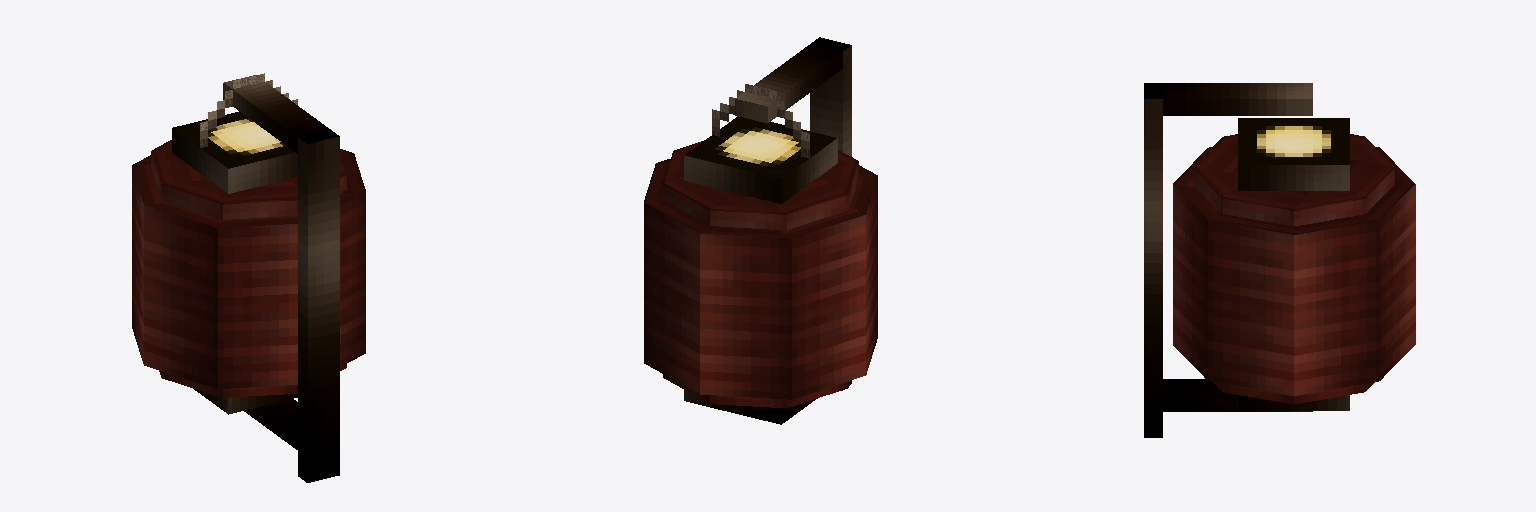
3 renders of one model, left to right at view 1: azimuth 30°, elevation 25°; view 2: azimuth 150°, elevation 25°; view 3: azimuth 270°, elevation 25°, orthographic.
Visible parts, largest first — view 1: cube; view 2: cube; view 3: cube.
Part boxes in pixels (bbox=[...]): cube: bbox=[132, 73, 365, 482]; cube: bbox=[644, 37, 877, 424]; cube: bbox=[1144, 83, 1415, 437].
Bounding box in the file's own units: 0.8118 × 1.28 × 0.9059.
Materials: 4 (4 with a texture image).